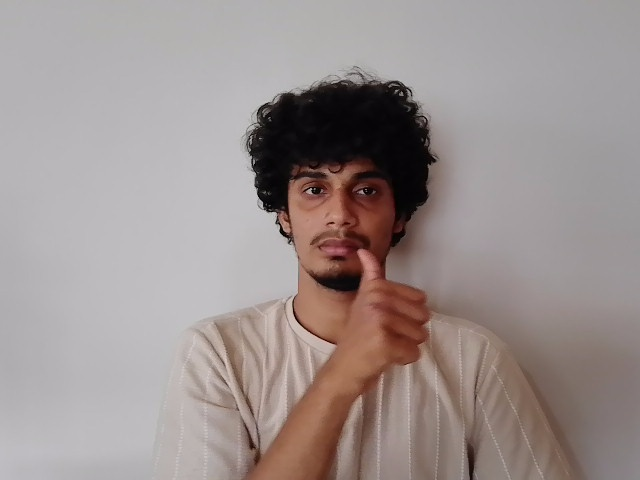drink: (278, 158, 440, 362)
